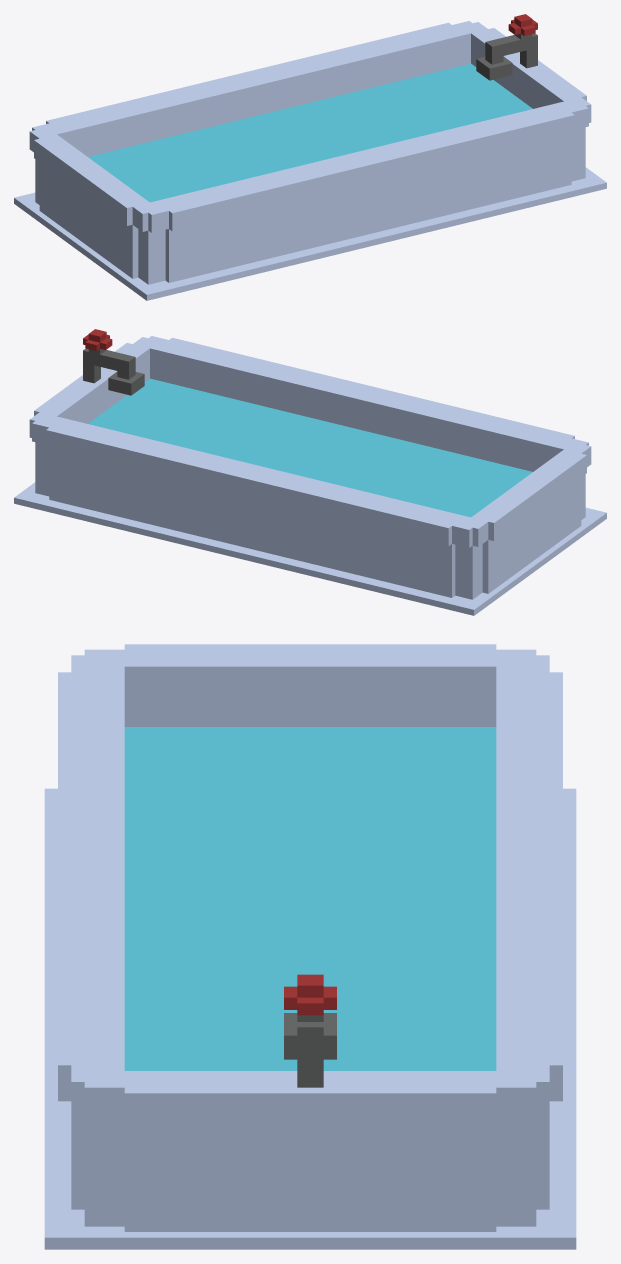
File: tub.obj
3 views of the same model, one above another, from view 1: azimuth 30°, elevation 25°; view 2: azimuth 150°, elevation 25°; view 3: azimuth 270°, elevation 25° (orthographic). The views are drawn at different scales.
Visible parts, largest first — view 1: tub; view 2: tub; view 3: tub.
Part boxes in pixels (x1=…): tub: x1=14, y1=14, x2=606, y2=300; tub: x1=14, y1=329, x2=606, y2=615; tub: x1=44, y1=644, x2=576, y2=1249.
Size of the model in its own units: 80 by 21 by 40.
Materials: 1 (1 with a texture image).
